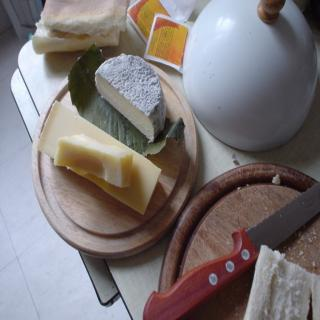Cheese: (36, 99, 163, 216), (94, 53, 165, 144), (53, 132, 134, 189)
